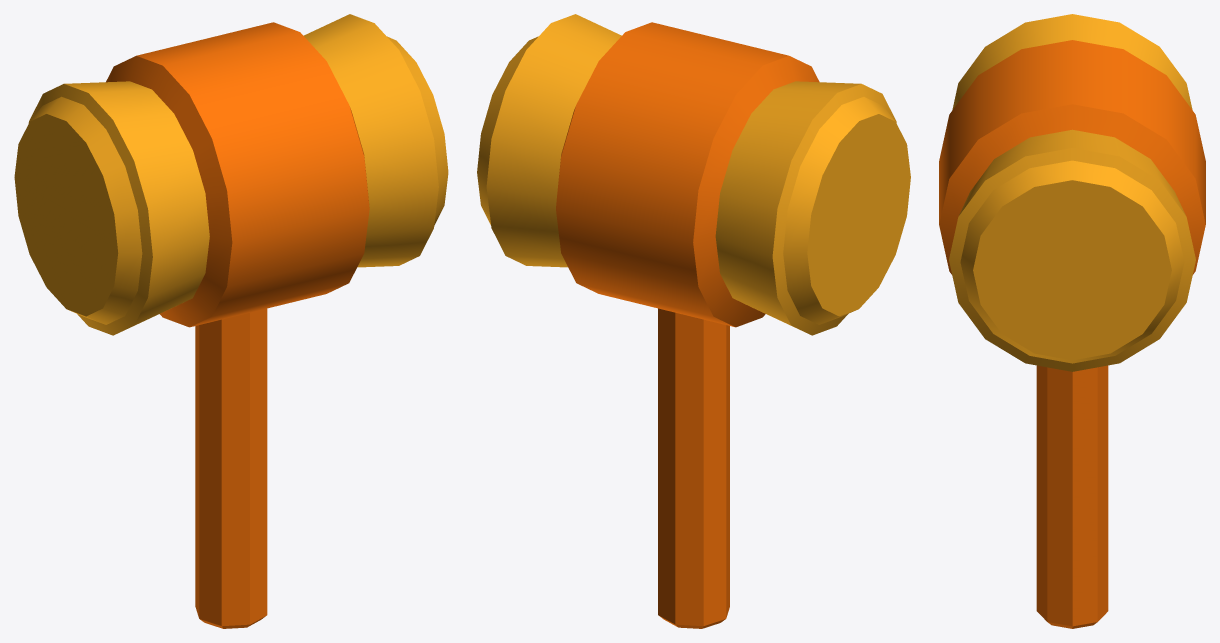
Rendered from Ground_Hammer_02.fbx.
3 renders of one model, left to right at view 1: azimuth 30°, elevation 25°; view 2: azimuth 150°, elevation 25°; view 3: azimuth 270°, elevation 25°, orthographic. The views are drawn at different scales.
Visible parts, largest first — view 1: Obstacle_Ground_Hammer_02; view 2: Obstacle_Ground_Hammer_02; view 3: Obstacle_Ground_Hammer_02.
Part boxes in pixels (box(x1,y1,x2,y2)): Obstacle_Ground_Hammer_02: box(14, 14, 448, 628); Obstacle_Ground_Hammer_02: box(477, 14, 910, 628); Obstacle_Ground_Hammer_02: box(939, 14, 1205, 628).
Size of the model in its own units: 179 by 294 by 131.
Materials: 1 (1 with a texture image).
